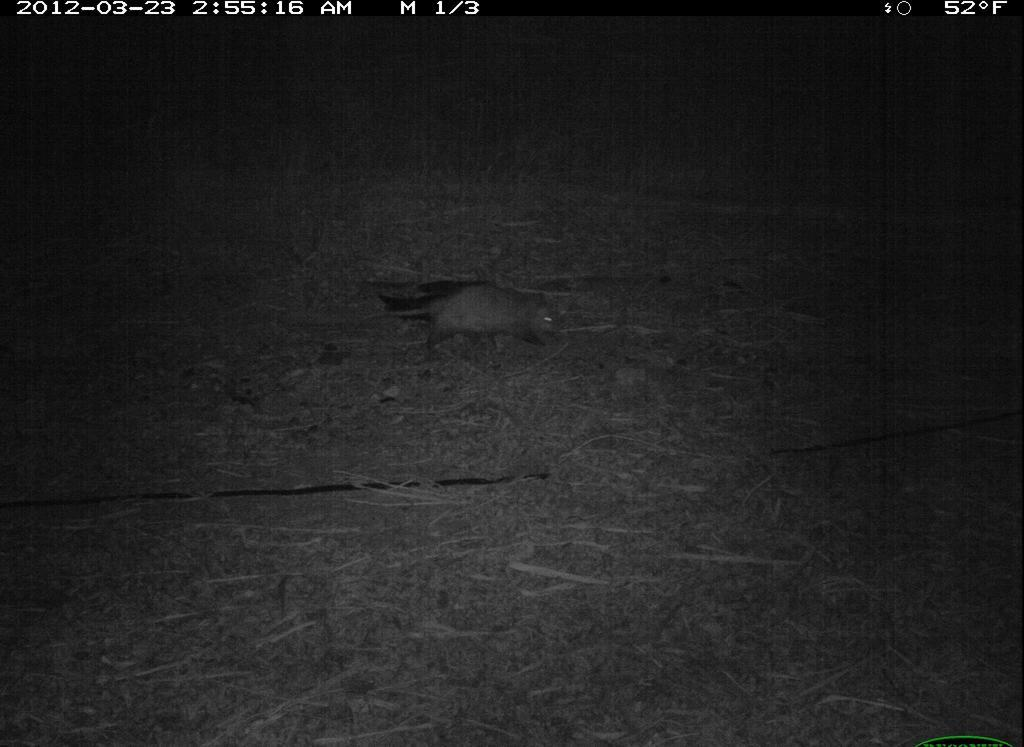opossum: (367, 276, 585, 370)
